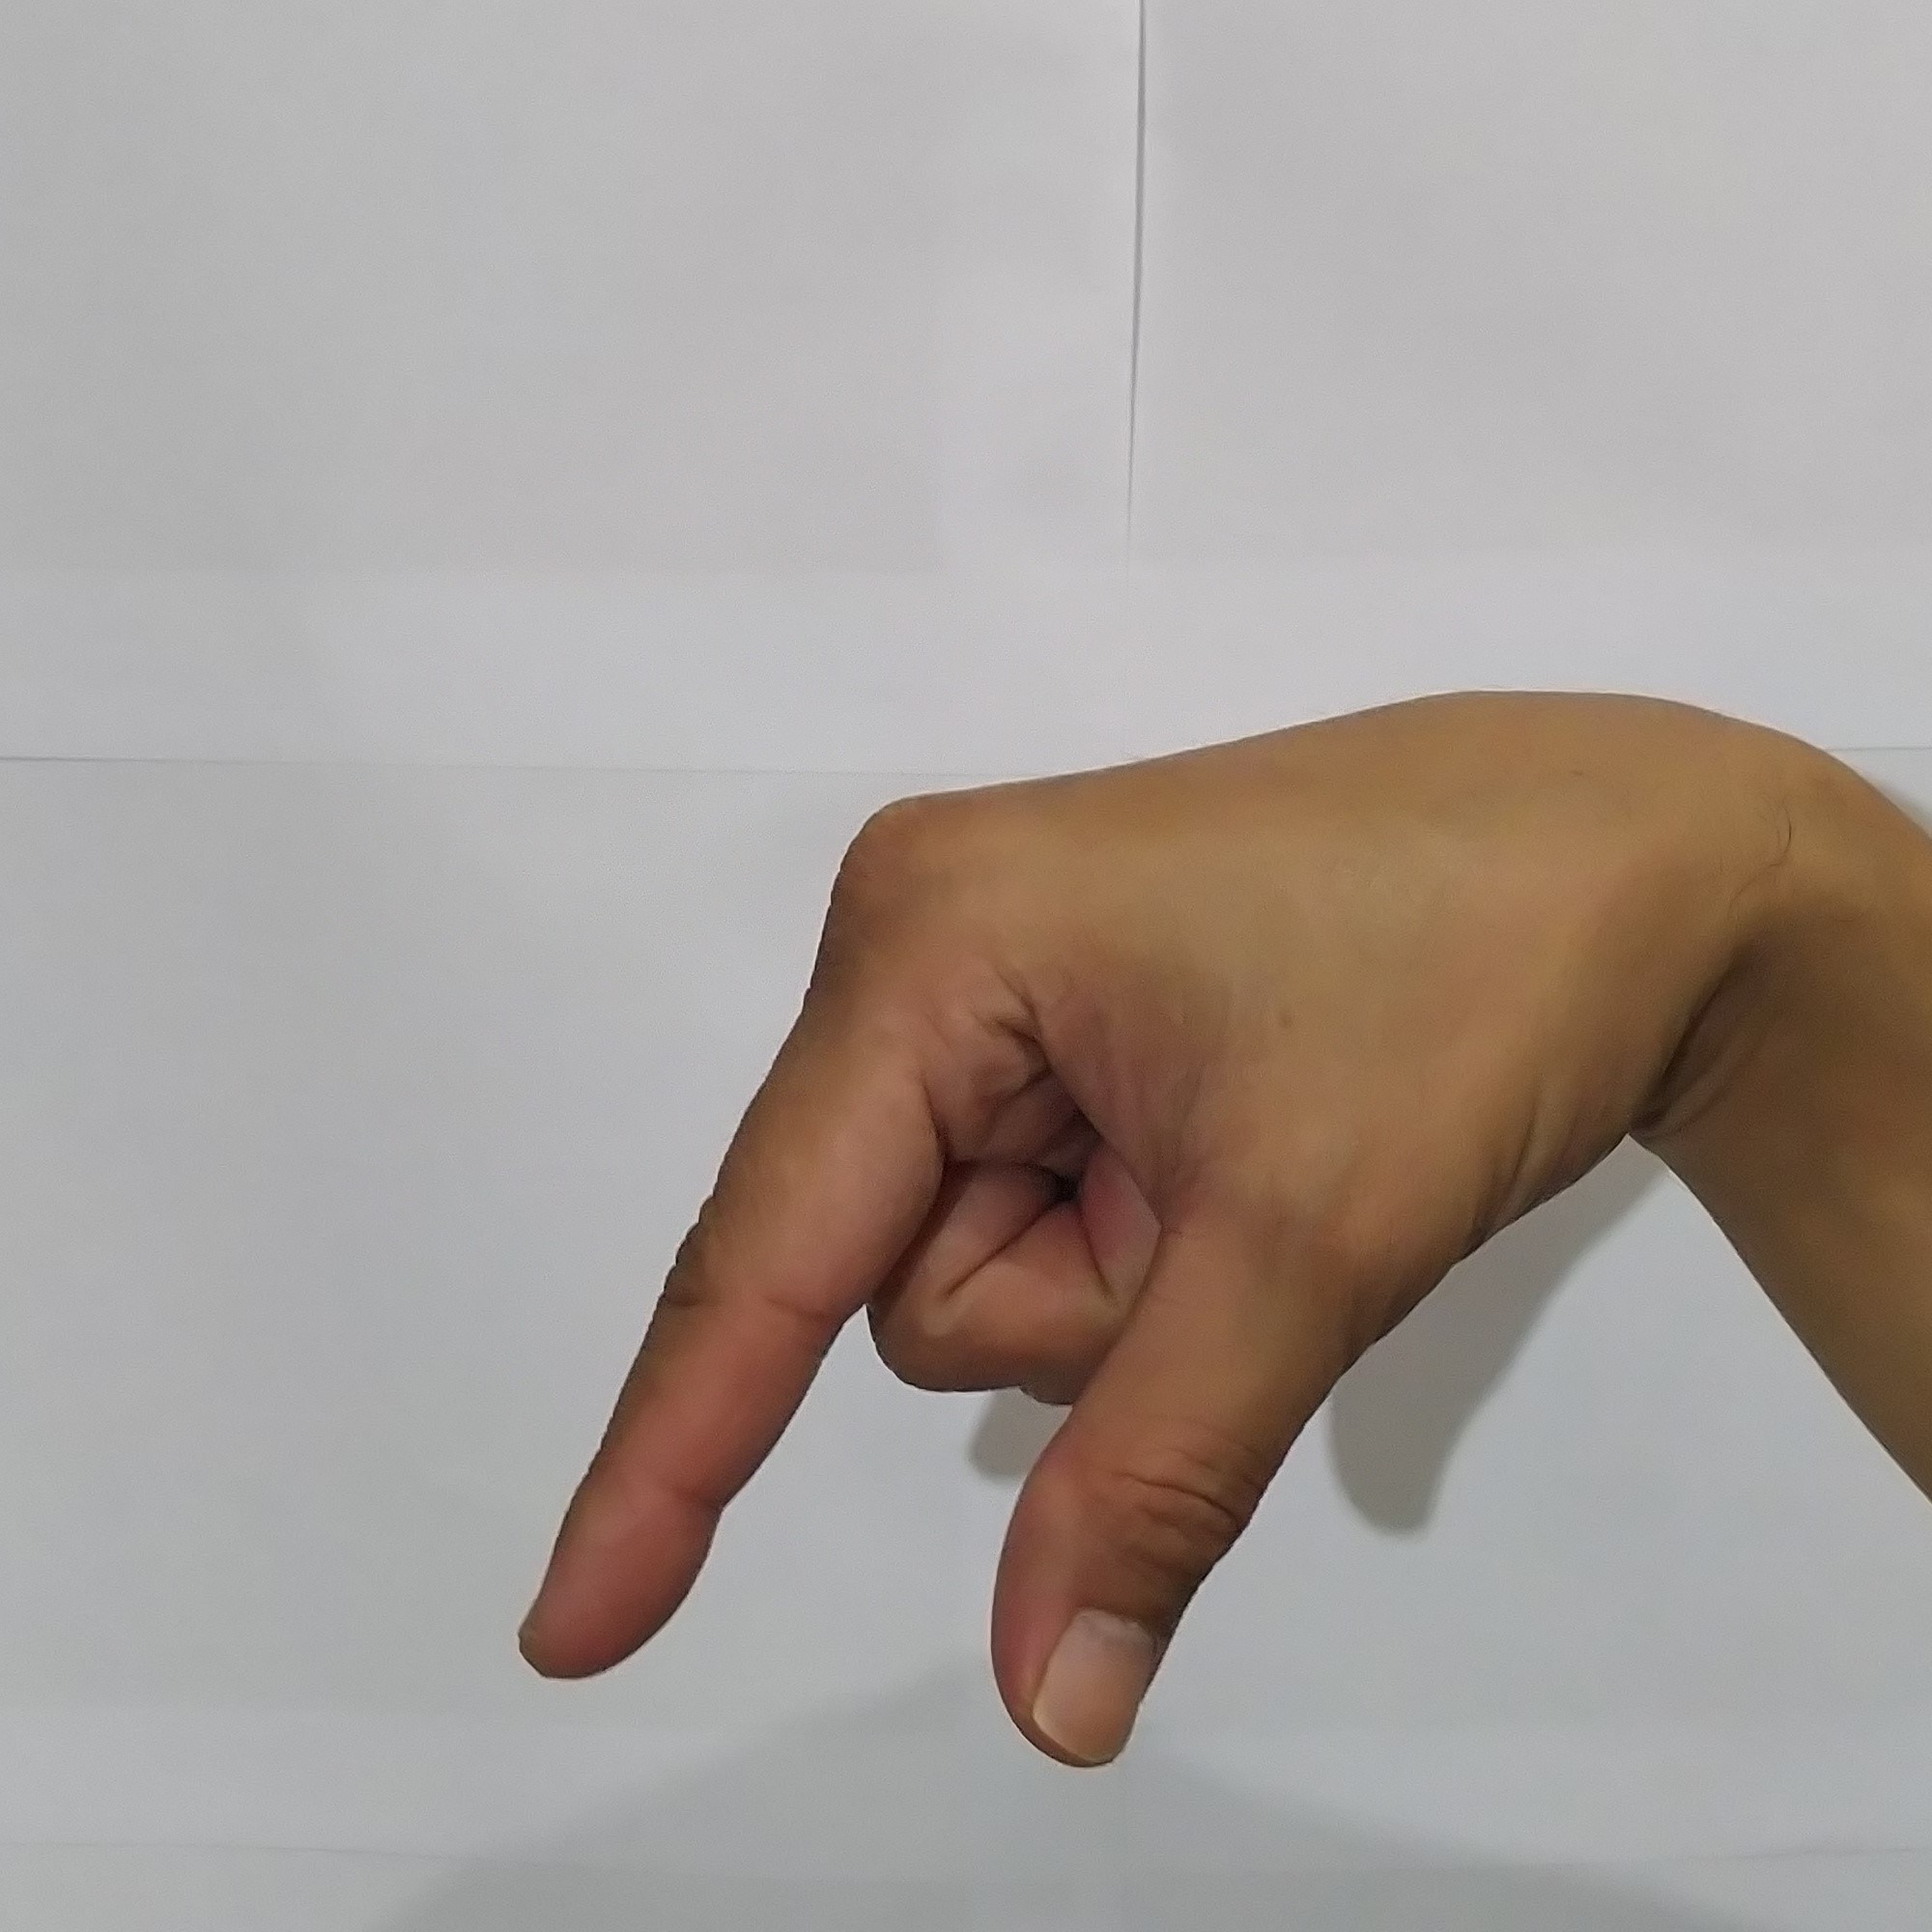Q: (476, 688, 1667, 1789)
